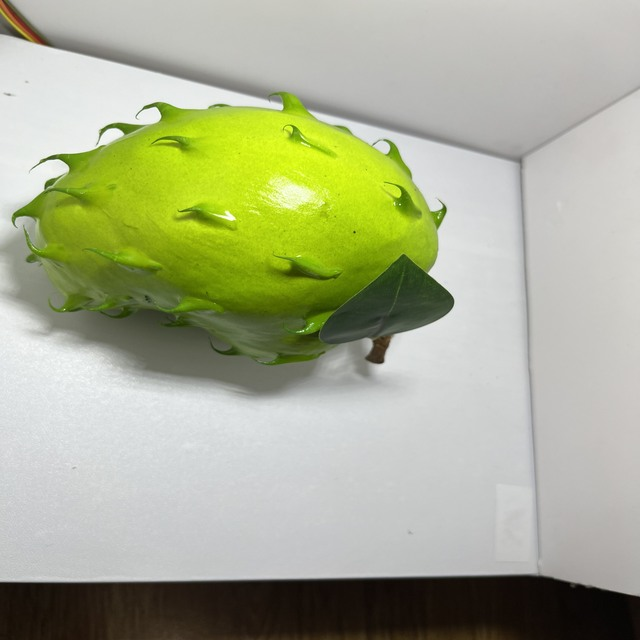Man cau: (6, 84, 448, 369)
